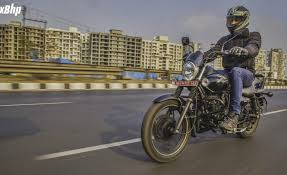helmet: (223, 4, 252, 37)
